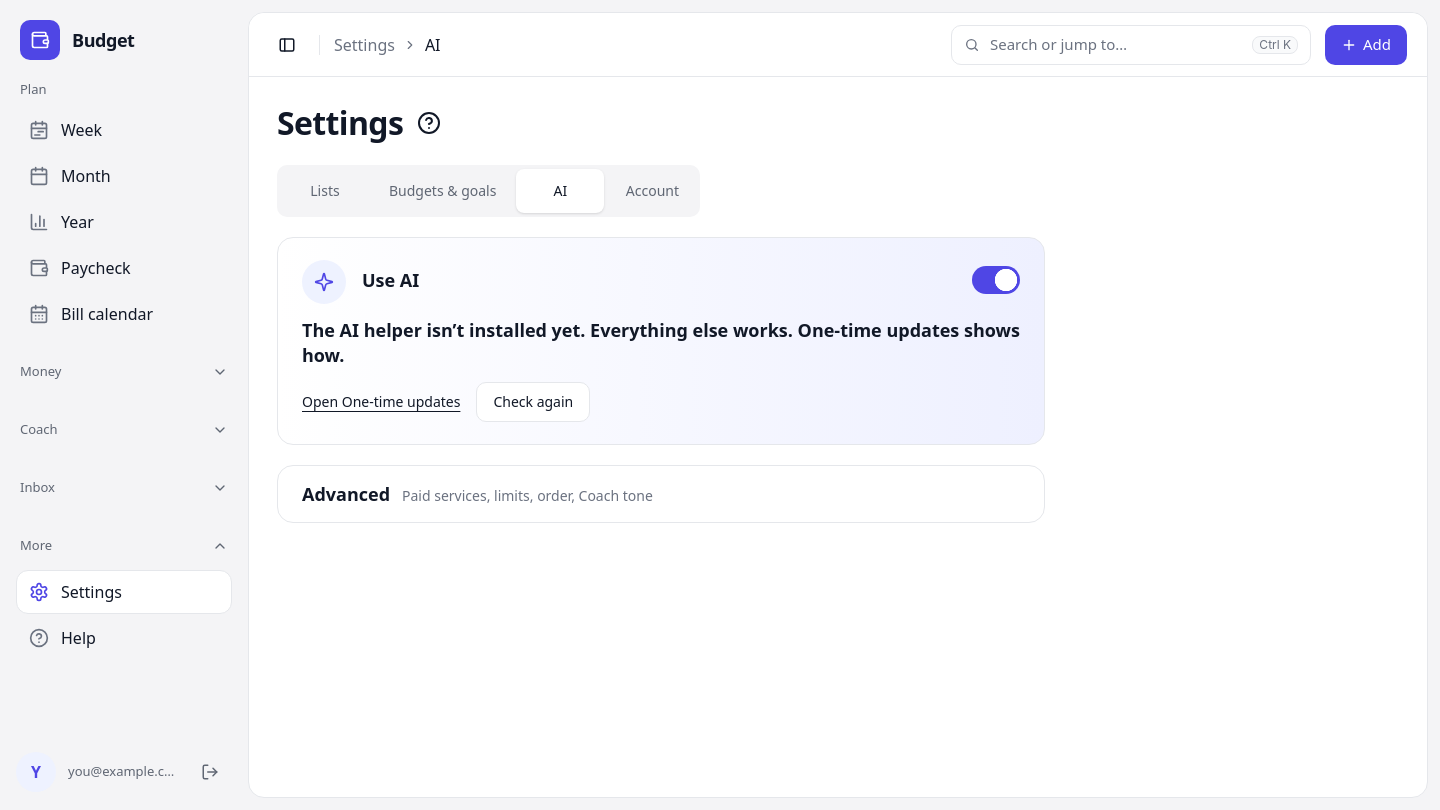
AI settings says what is true, whatever the helper does › asks again on Check again, showing the newest answer
Expected: the heading "Settings" is shown, top-left (277, 103), bottom-right (403, 143)
Click the button "Check again" at (533,402), box top-left (476, 382), bottom-right (590, 422)
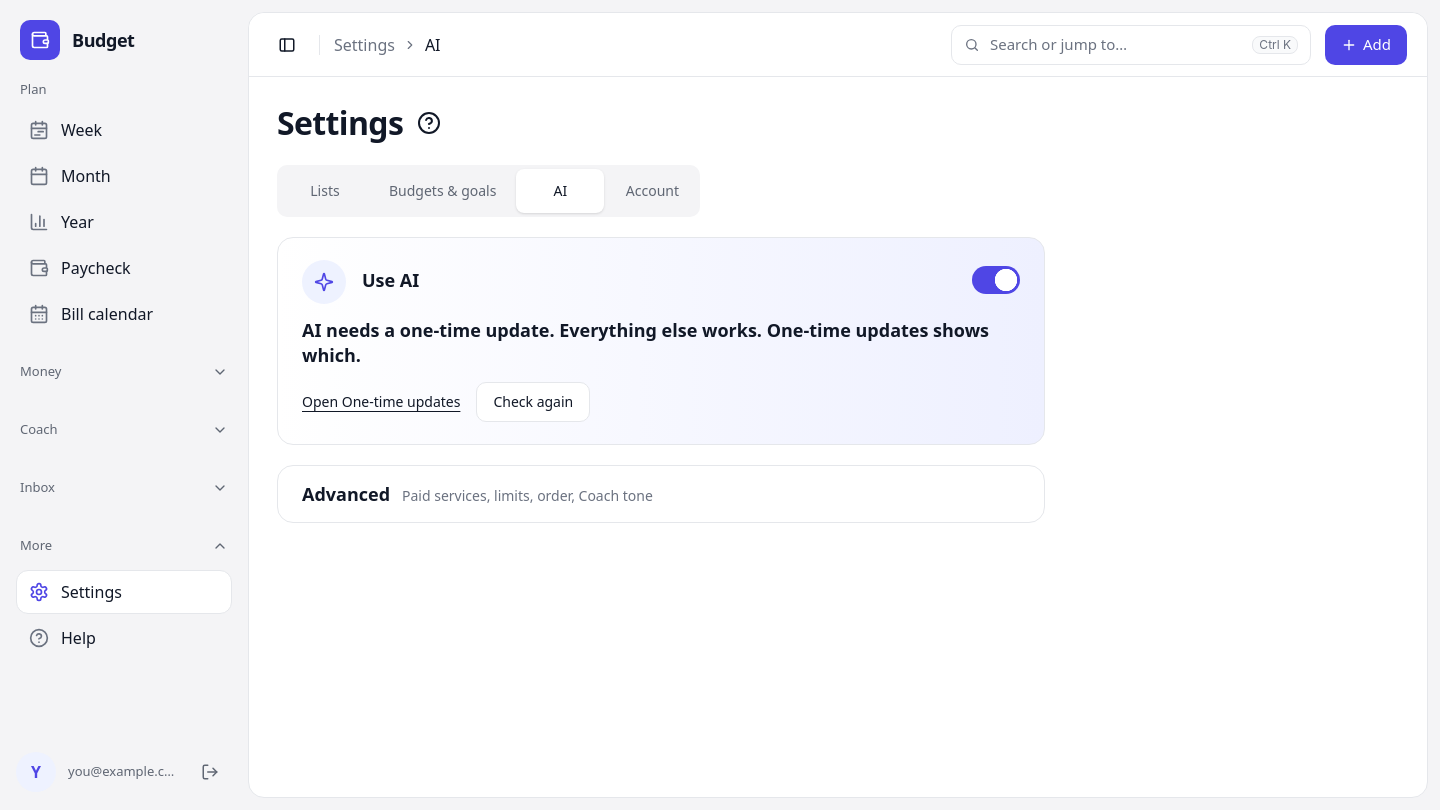
Expected: the text "AI needs a one-time update. Everything else works. One-time updates shows which." is shown, top-left (302, 318), bottom-right (1020, 368)
